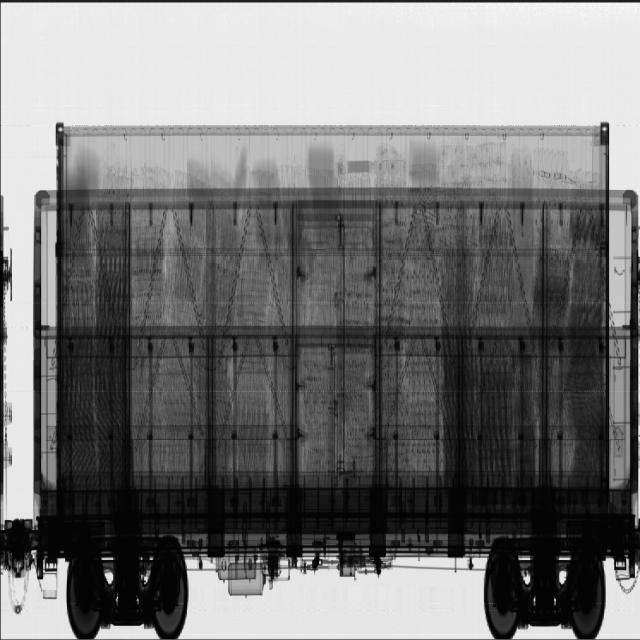shoes: (442, 205, 516, 478), (65, 210, 128, 361)
